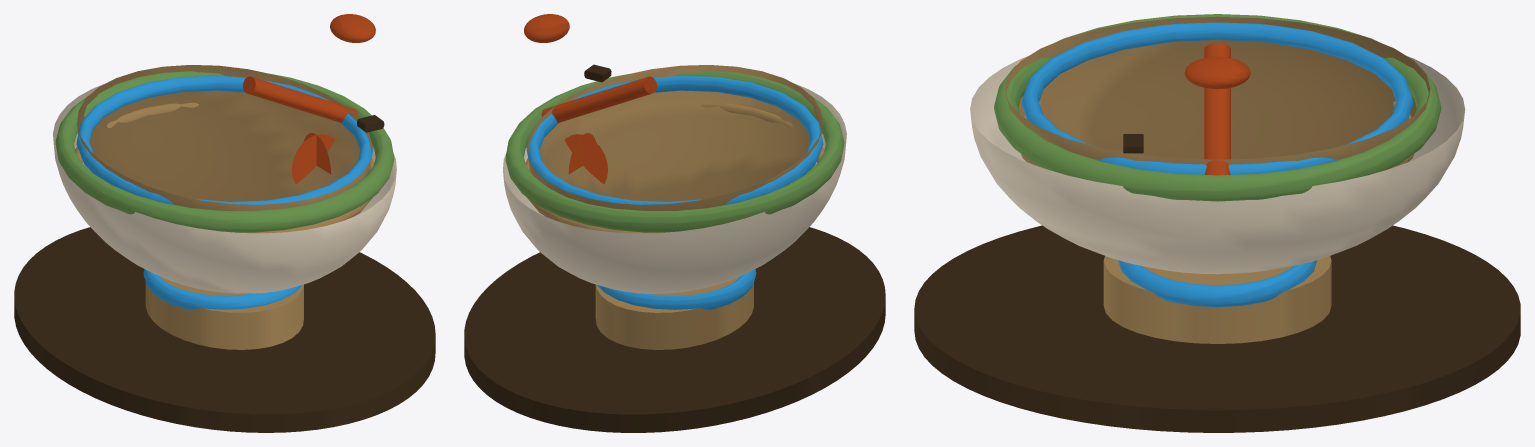
The model's file is 0875_钟表图鉴_水运仪象台.glb.
3 renders of one model, left to right at view 1: azimuth 30°, elevation 25°; view 2: azimuth 150°, elevation 25°; view 3: azimuth 270°, elevation 25°, orthographic. The views are drawn at different scales.
Parts seen in each view (by area): view 1: card_0875; view 2: card_0875; view 3: card_0875.
Boxes of the visible parts, left/top/right/bottom form: card_0875: left=14, top=14, right=435, bottom=432; card_0875: left=464, top=14, right=885, bottom=432; card_0875: left=914, top=14, right=1520, bottom=432.
Bounding box in the file's own units: 1.26 × 1 × 1.58.
